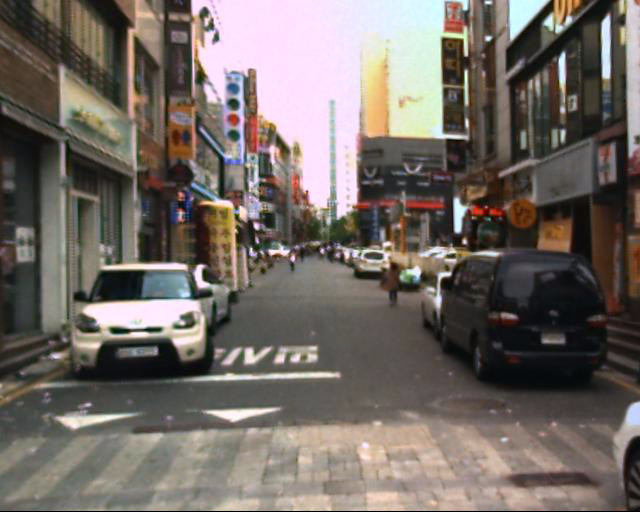person: (379, 246, 407, 316), (285, 237, 305, 278)
